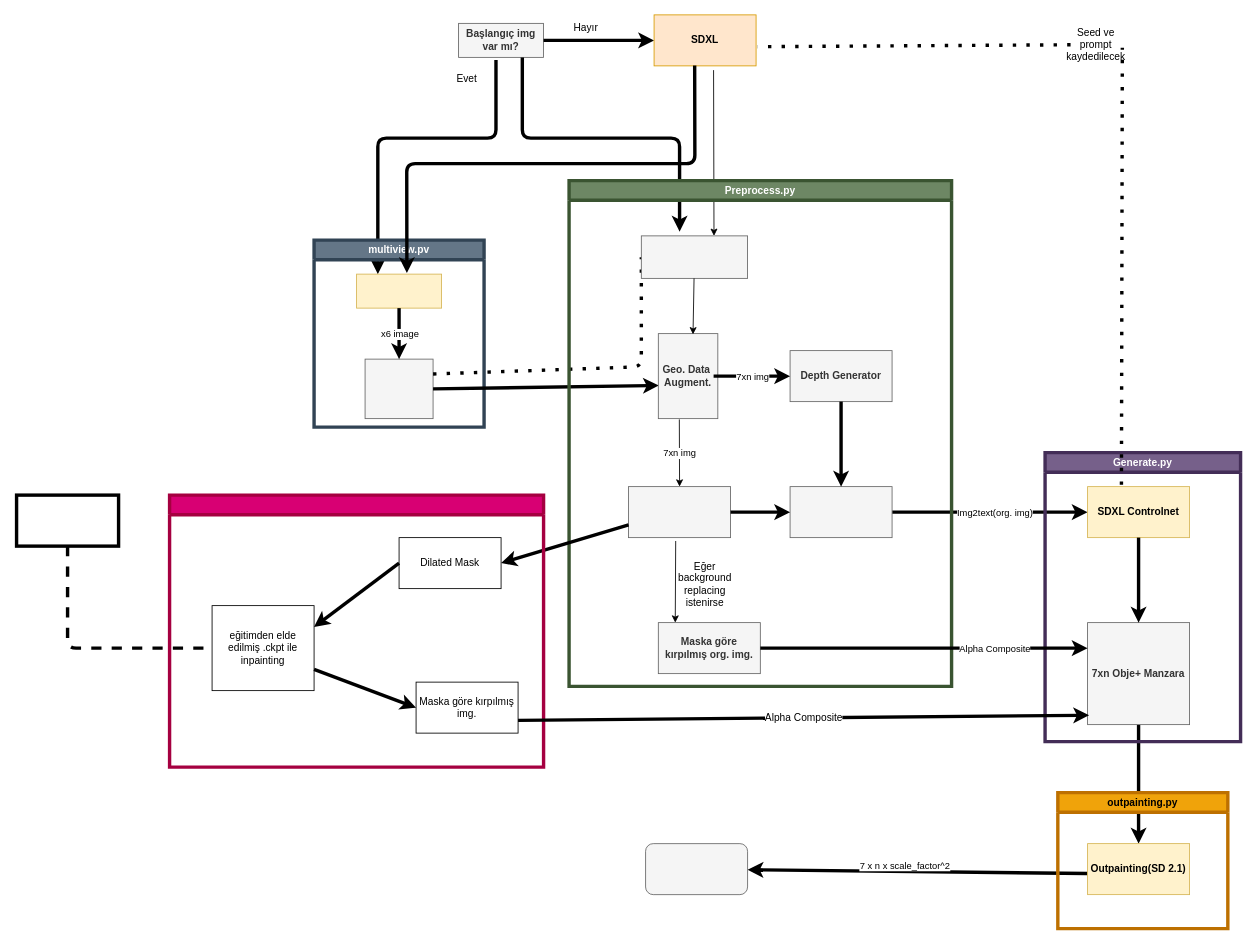
Image size: 1256x945. Some labels were removed from this diagram. The shapes that lost their labels are listed below. From the top down, each one's centre as x and y in pixels, then its label:
At point (694, 256): "Orijinal görüntüyü scale et".
At point (399, 290): "Zero123+".
At point (398, 388): "Multiview img sizeları org. img. ile eşitle".
At point (67, 520): "Dreambooth + Lora Training Pipeline".
At point (679, 512): "Segmenter (DIS)".
At point (840, 512): "7xn depth+mask img".
At point (356, 630): "Yapım Aşamasında".
At point (696, 869): "Final images".
